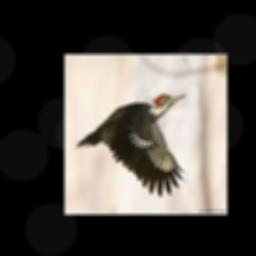Woodpecker: (76, 94, 188, 198)
